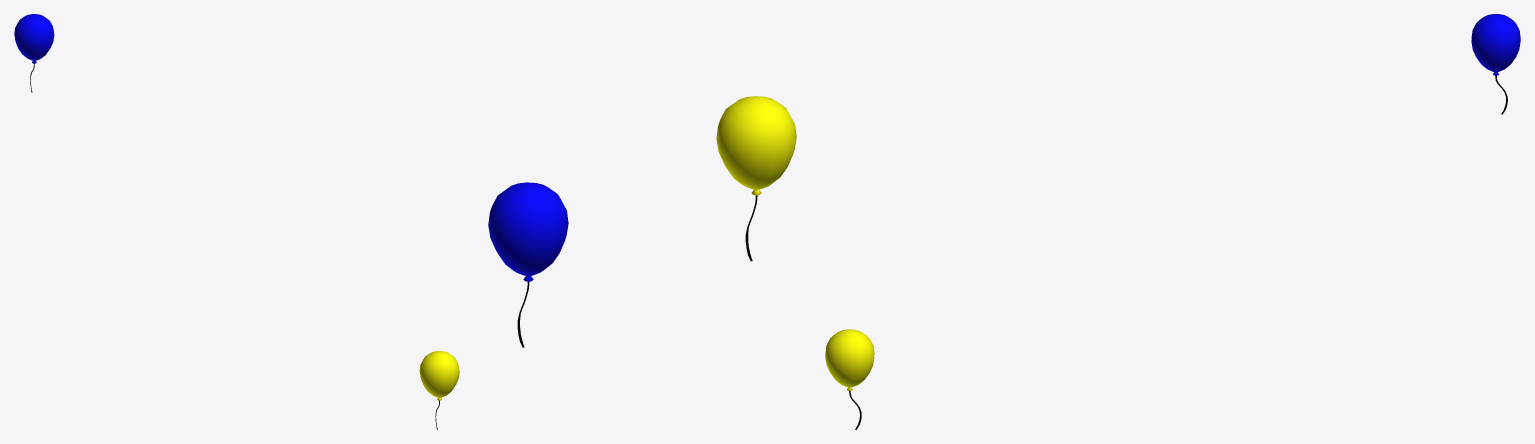
The model's file is M10_Static1Glass.fbx.
3 renders of one model, left to right at view 1: azimuth 30°, elevation 25°; view 2: azimuth 150°, elevation 25°; view 3: azimuth 270°, elevation 25°, orthographic. The views are drawn at different scales.
Parts seen in each view (by area): view 1: Balloon2, Balloon1; view 2: Balloon2, Balloon1; view 3: Balloon1, Balloon2.
Boxes of the visible parts, <box> form: Balloon2: <box>419,351,459,429</box>; Balloon1: <box>14,14,54,92</box>; Balloon2: <box>716,96,796,261</box>; Balloon1: <box>488,182,568,347</box>; Balloon1: <box>1471,14,1520,114</box>; Balloon2: <box>825,329,874,429</box>.
Size of what is drawn, in the model's own units: 36.49 by 50.76 by 98.19.
